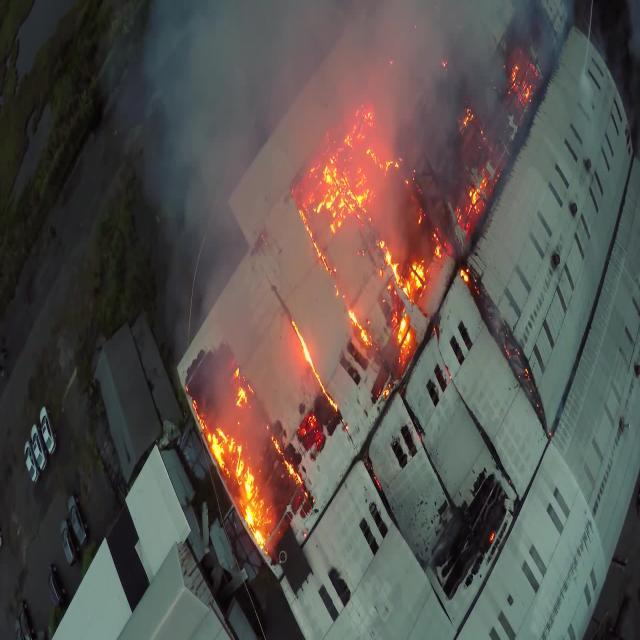Fire: (291, 86, 441, 360), (182, 343, 312, 558), (454, 83, 508, 242), (504, 44, 546, 108)
Smoke: (167, 0, 595, 492)
